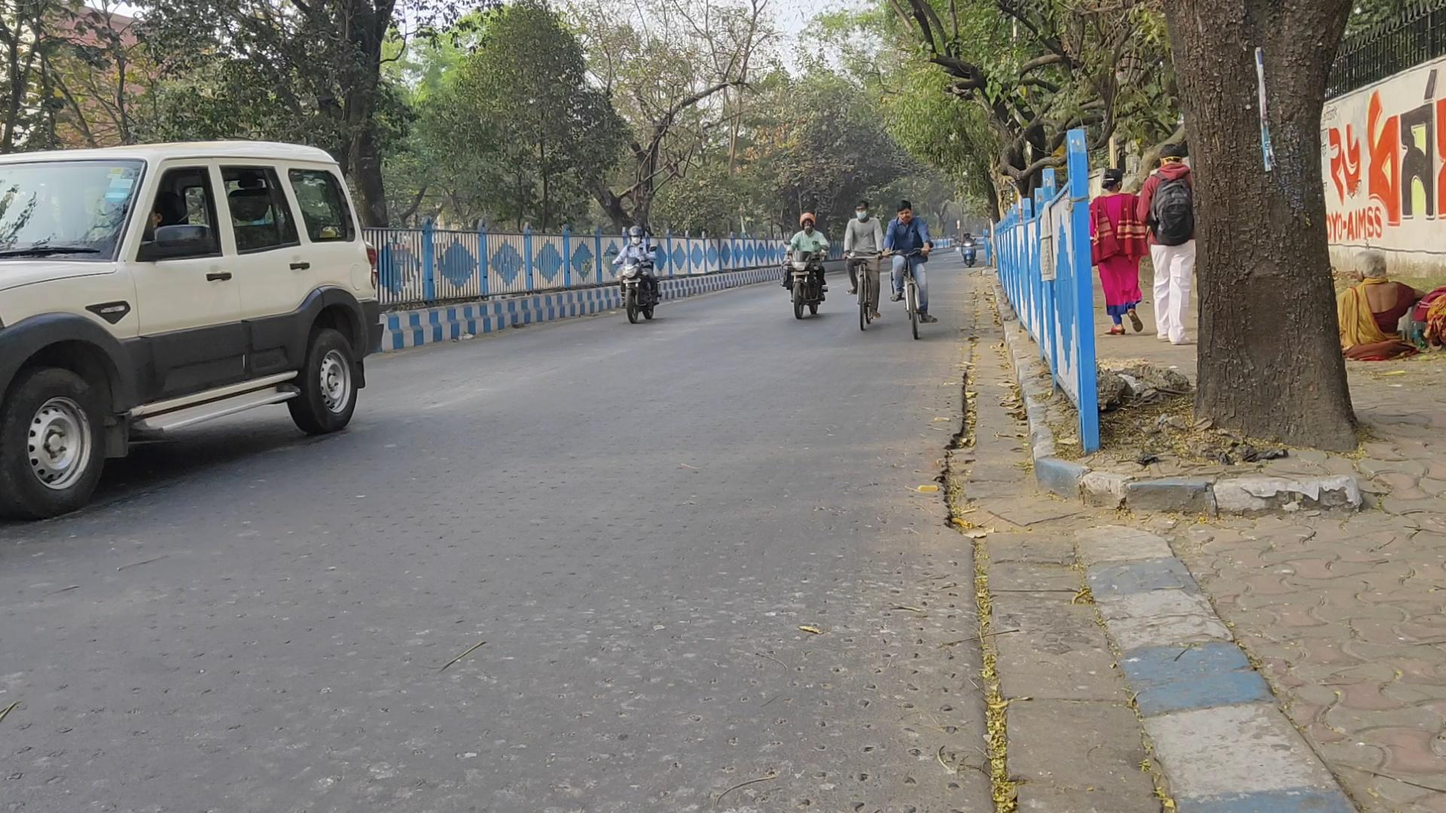bike: (883, 199, 938, 340), (842, 199, 883, 331), (781, 212, 826, 318), (613, 226, 660, 324), (956, 232, 978, 268)
car: (2, 139, 384, 521)
